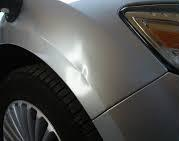dent: (59, 56, 94, 94)
